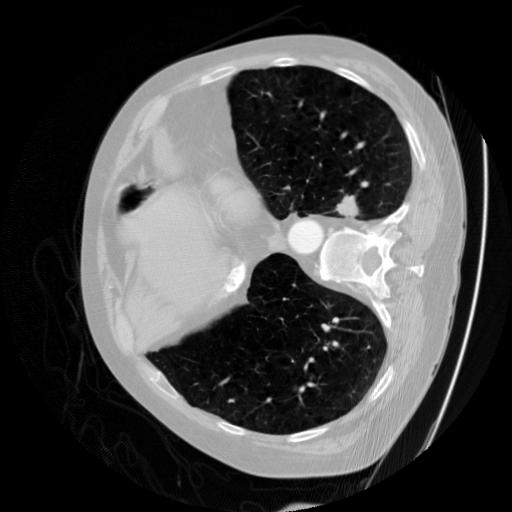nodule: (332, 193, 362, 223)
